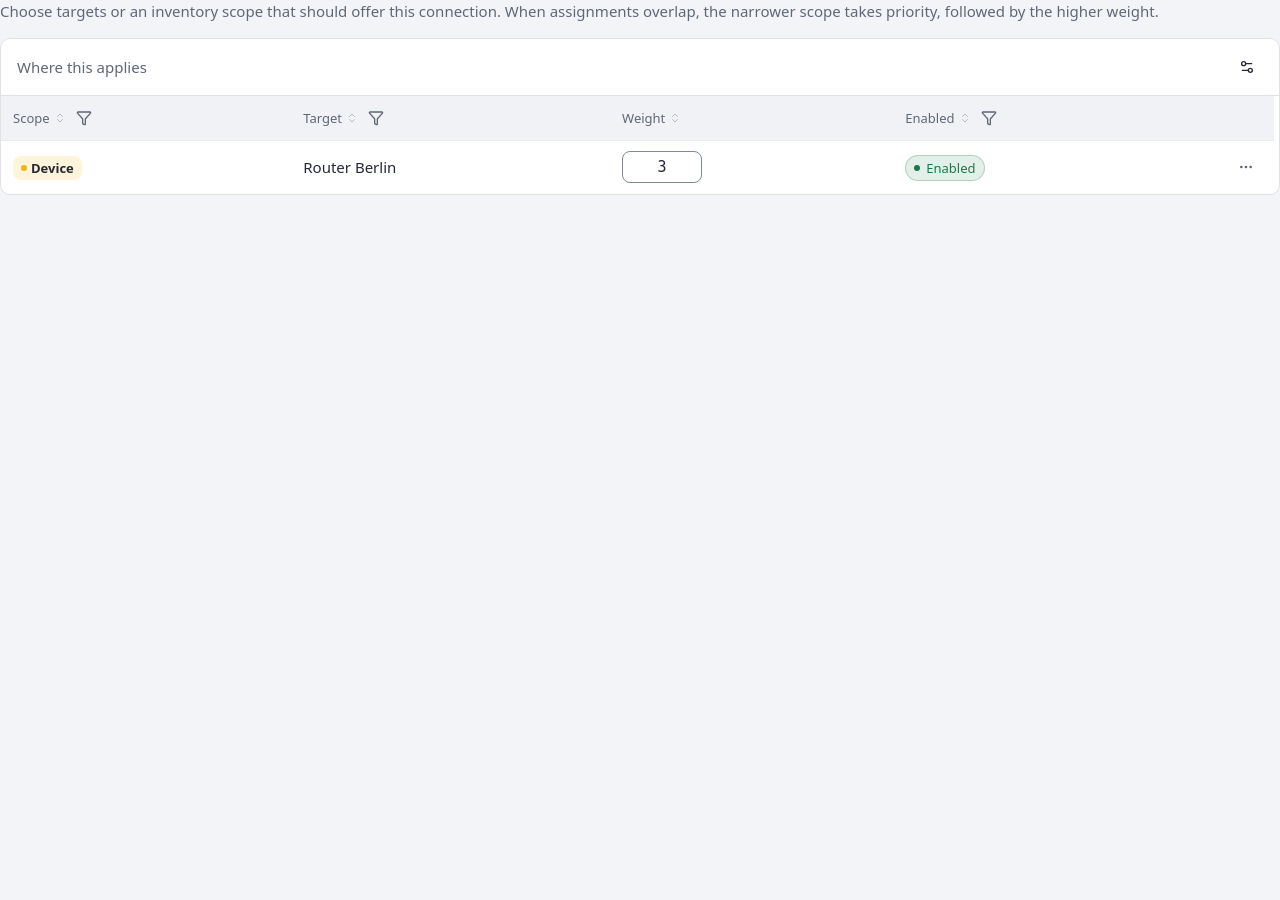
Test: assignment row actions › edits the selected assignment and returns focus to its menu invoker on cancel
Press the mouse on the button named "Actions: Router Berlin" at coordinates (1246, 167), box [1230,151,1262,183]
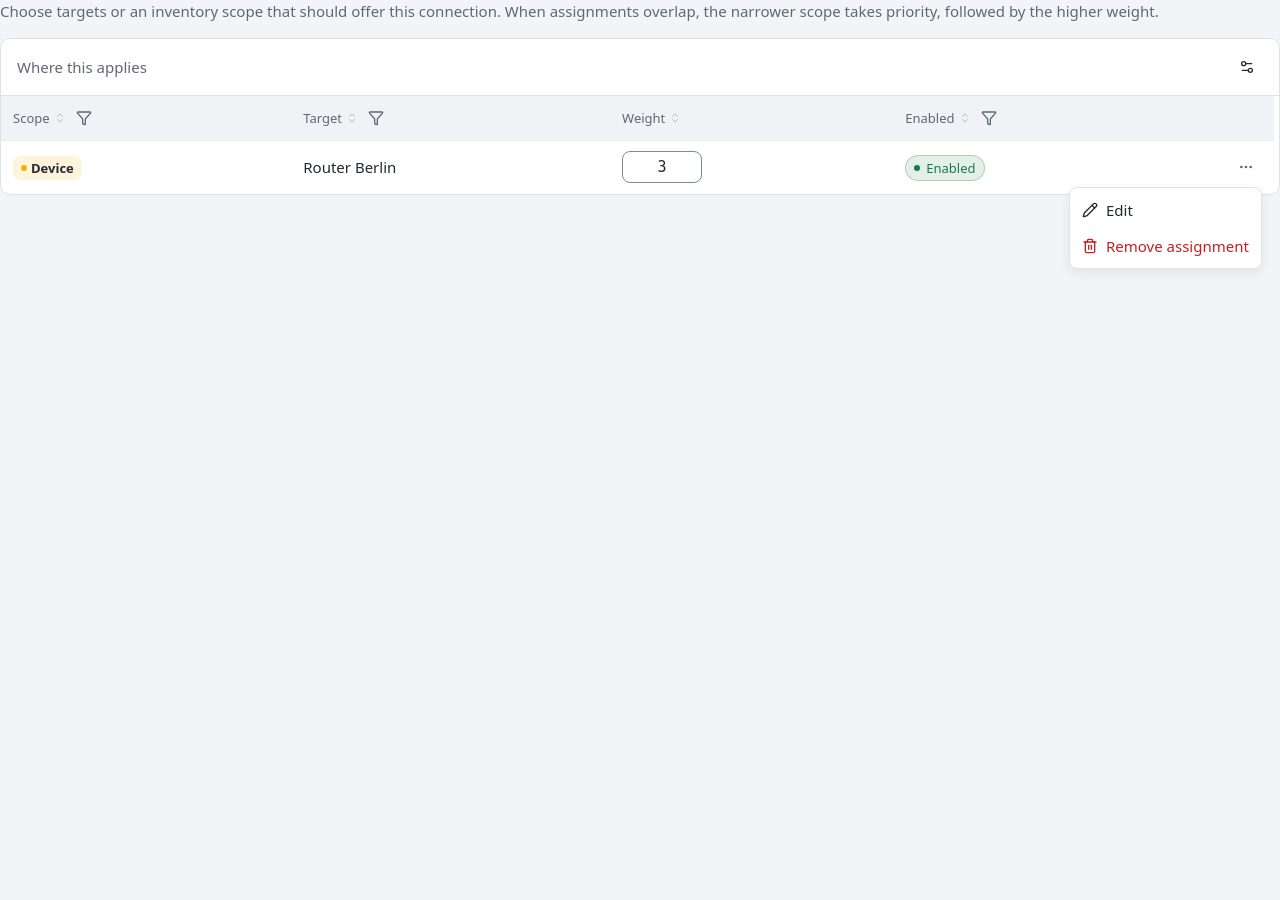
Click the menu item "Edit" at coordinates (1107, 210), box [1082,200,1133,220]
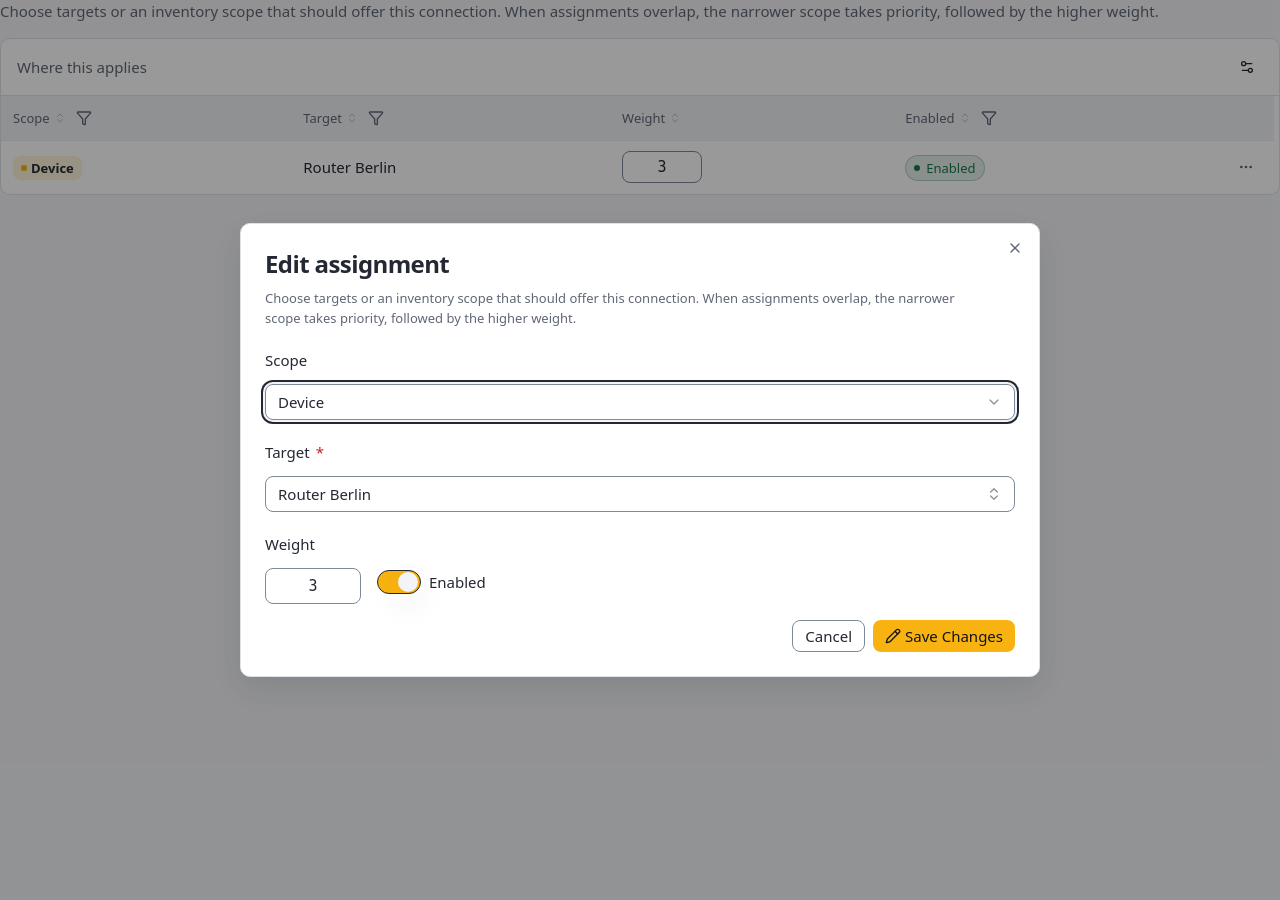
Now the number field labelled "Weight" holds "3", box [265,568,361,604]
Click the button "Cancel" at coordinates (829, 636), box [792,620,865,652]
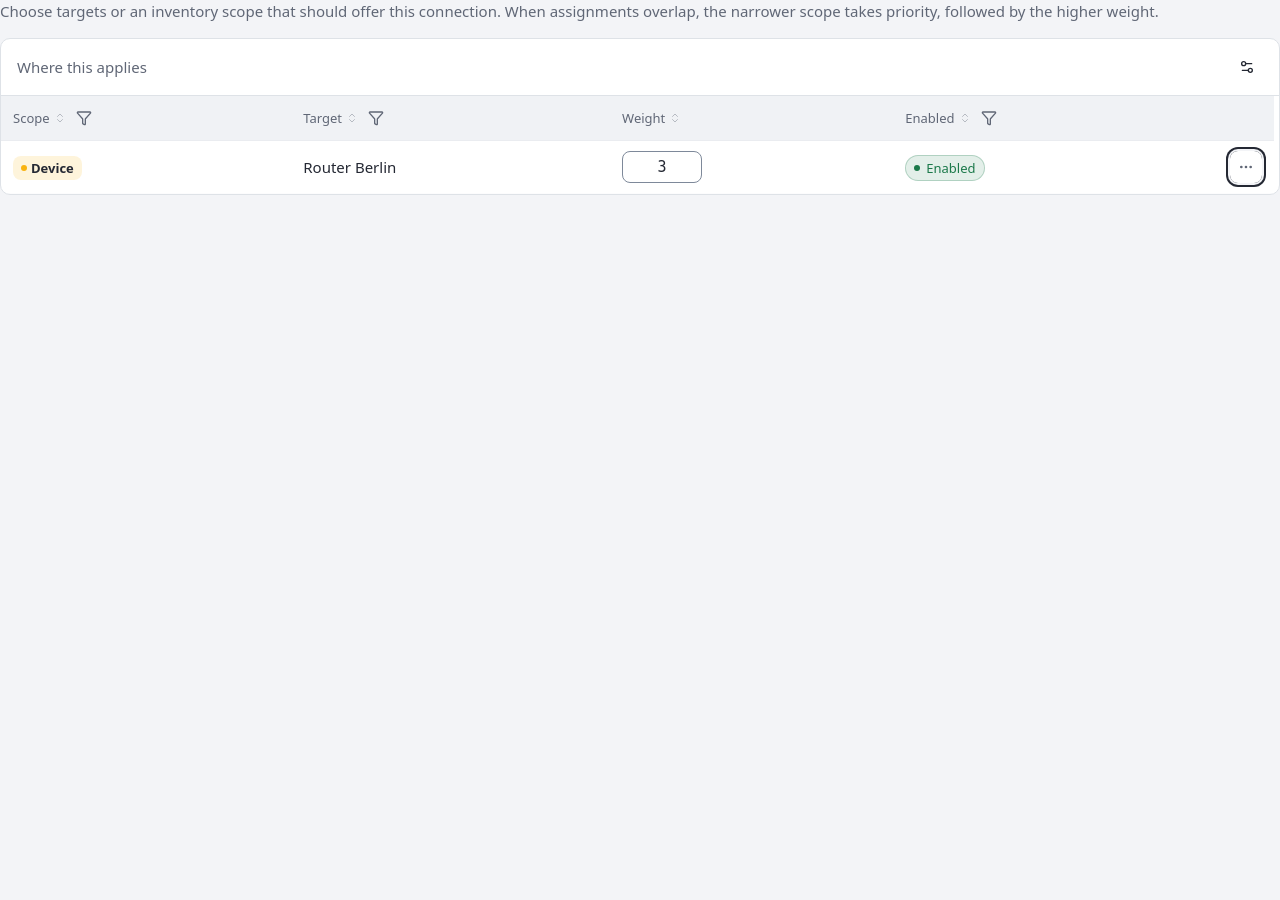
Now the dialog is gone
